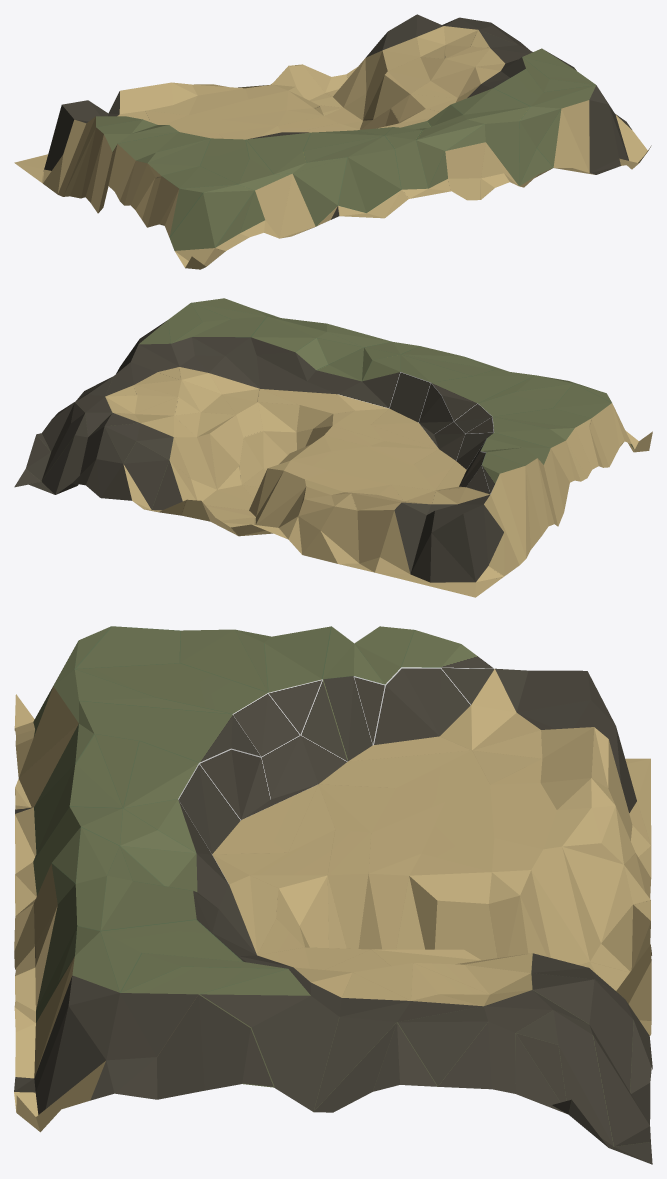
File: BeachColord_32.fbx
3 views of the same model, one above another, from view 1: azimuth 30°, elevation 25°; view 2: azimuth 150°, elevation 25°; view 3: azimuth 270°, elevation 25° (orthographic). The views are drawn at different scales.
Visible parts, largest first — view 1: Beach_BeforeLow.001; view 2: Beach_BeforeLow.001; view 3: Beach_BeforeLow.001.
Part boxes in pixels (x1=…): Beach_BeforeLow.001: x1=14, y1=14, x2=651, y2=269; Beach_BeforeLow.001: x1=14, y1=298, x2=652, y2=597; Beach_BeforeLow.001: x1=14, y1=626, x2=652, y2=1164.
Bounding box in the file's own units: 15062 × 2599 × 10052.
